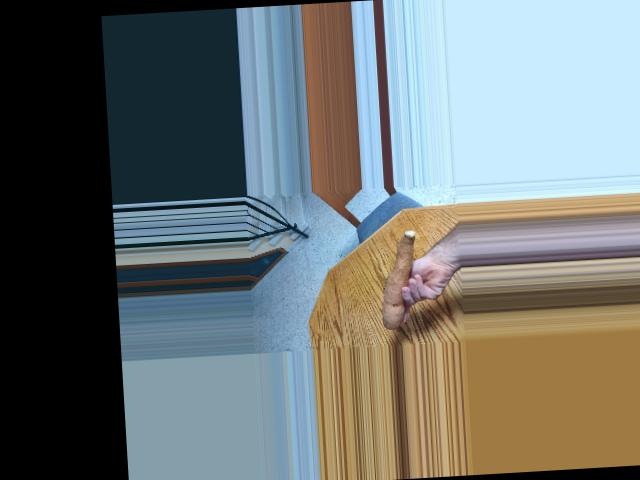sweet_potato: (373, 227, 424, 328)
